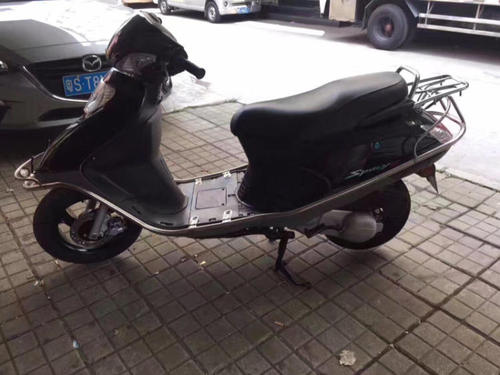motor: (37, 37, 460, 270)
